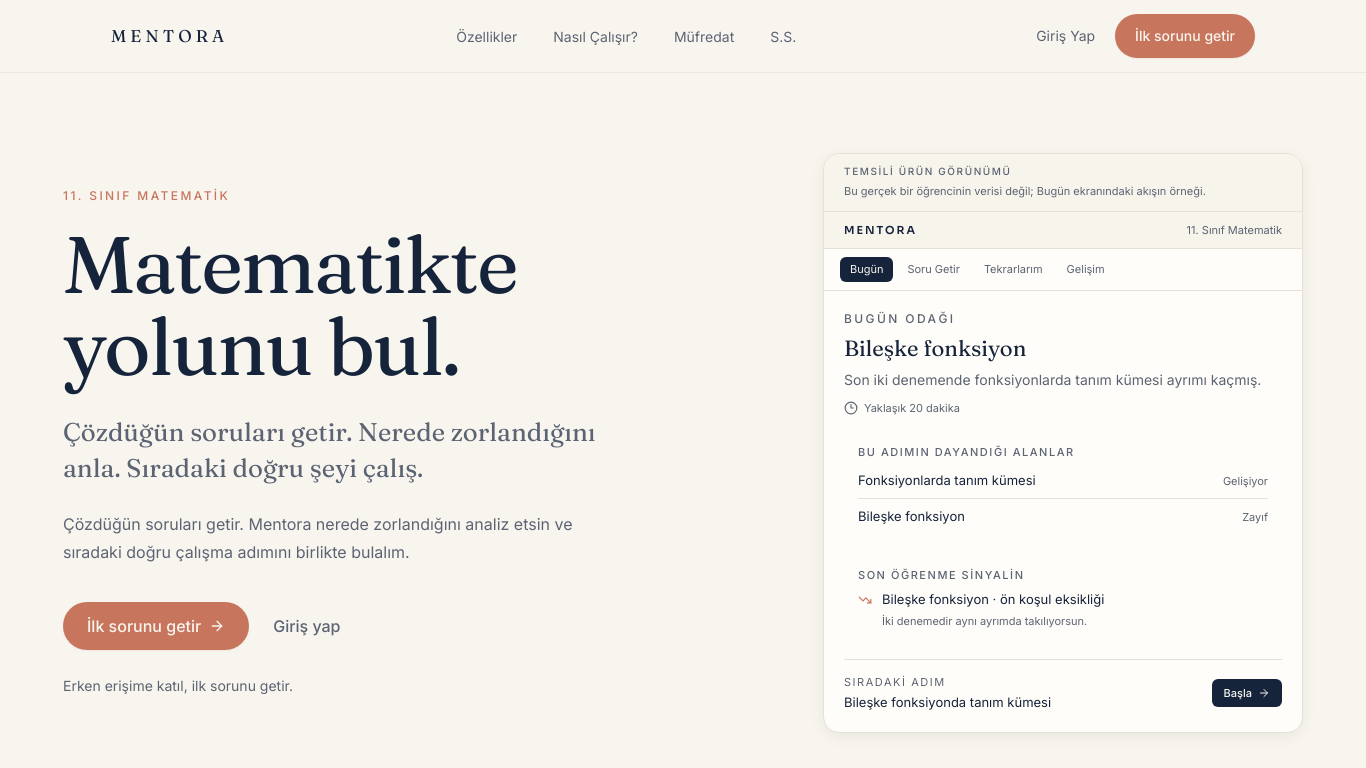
Test case: App › opens the sign-in experience from the landing page "Giriş yap"
This screenshot has width=1366, height=768.
Expected: the heading named "Matematikte yolunu bul" is shown, left=63, top=215, right=517, bottom=395
Click the button "Giriş yap": (307, 626) left=249, top=602, right=364, bottom=650
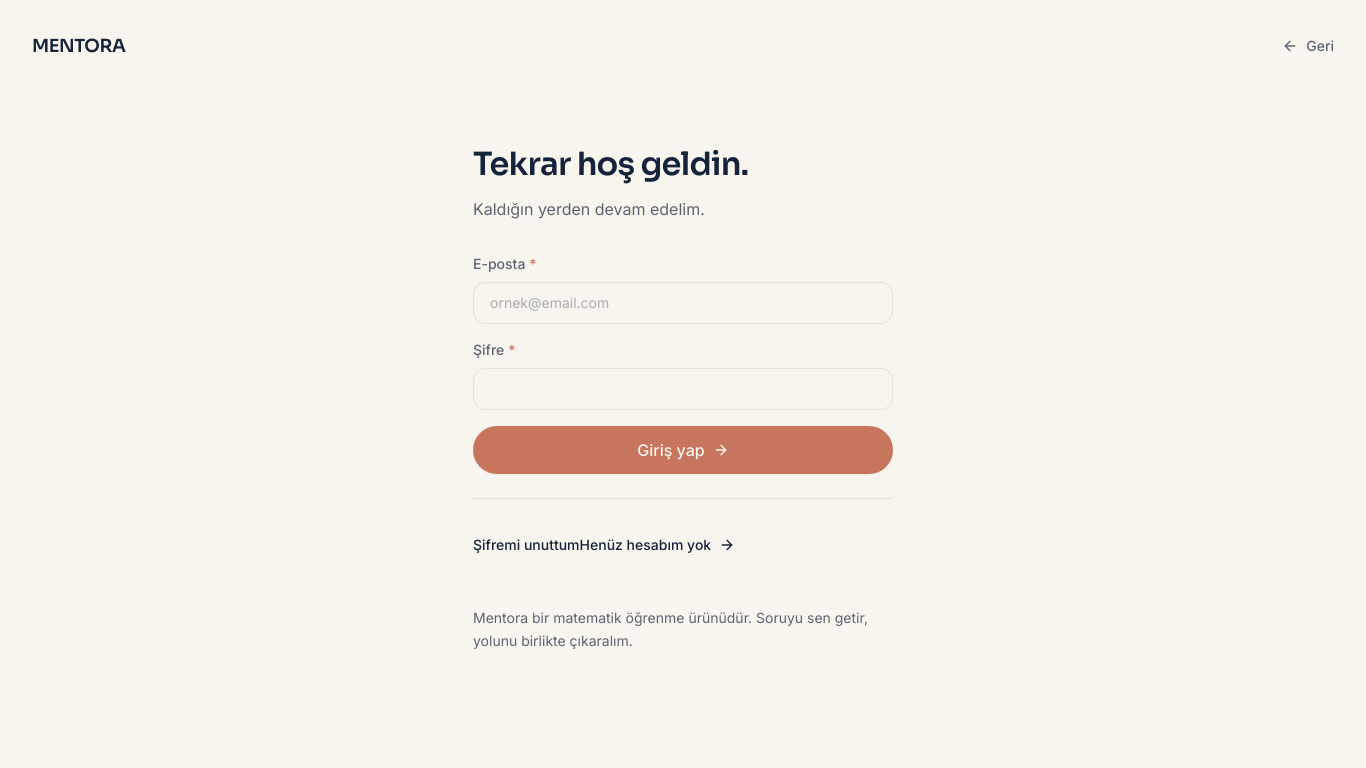
Result: the heading "Tekrar hoş geldin." is shown at left=473, top=144, right=748, bottom=184
